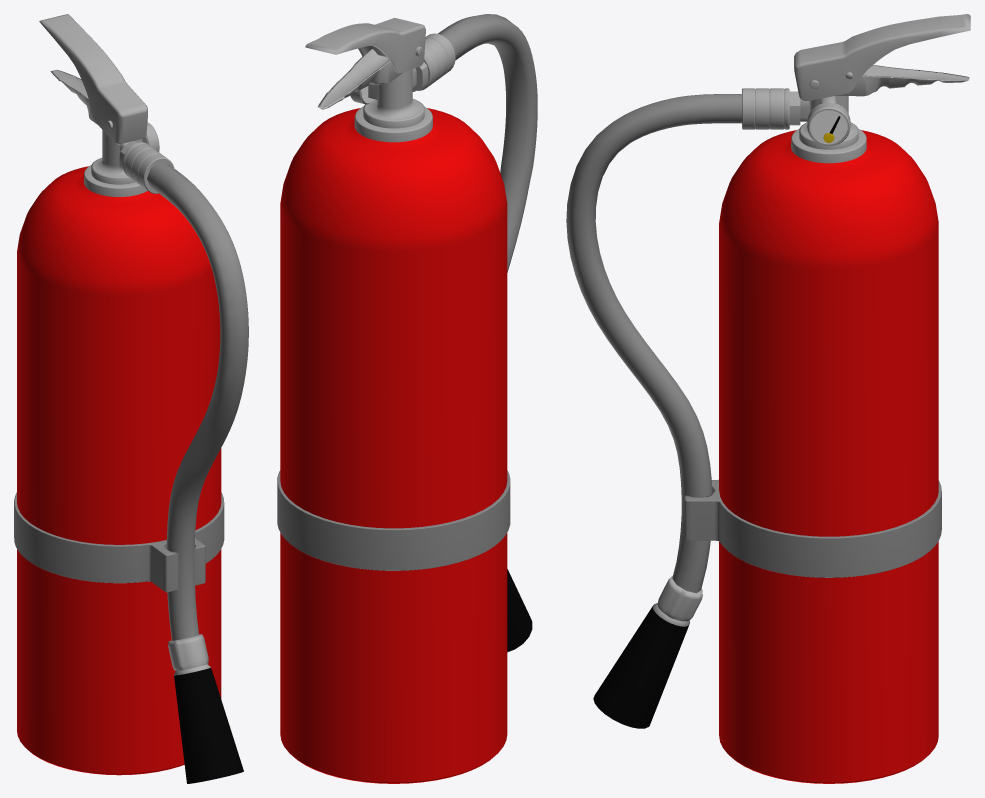
Rendered from FireExtinguisher.fbx.
3 views of the same model, side by side, from view 1: azimuth 30°, elevation 25°; view 2: azimuth 150°, elevation 25°; view 3: azimuth 270°, elevation 25° (orthographic). The views are drawn at different scales.
Visible parts, largest first — view 1: polySurface1; view 2: polySurface1; view 3: polySurface1.
Boxes of the visible parts, x1,y1,x2,y2 form: polySurface1: (14,14,248,783); polySurface1: (277,14,537,783); polySurface1: (566,14,970,783).
Bounding box in the file's own units: 0.8464 × 2.97 × 1.52.
